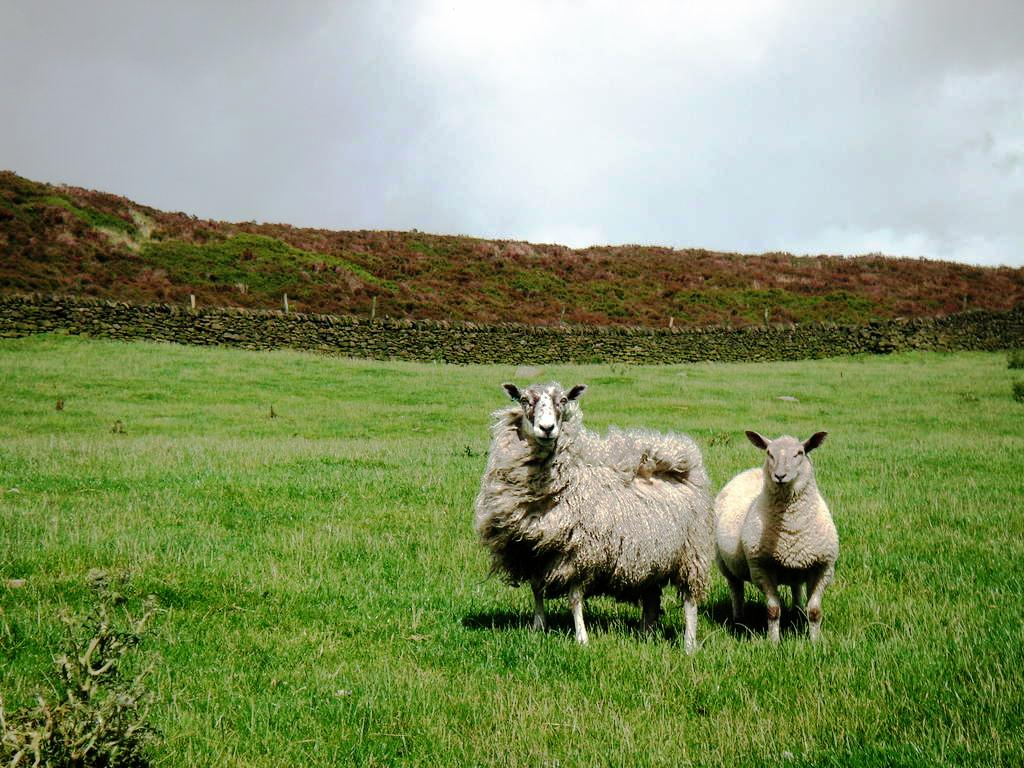Sheep: (474, 380, 718, 654), (712, 428, 839, 648)
